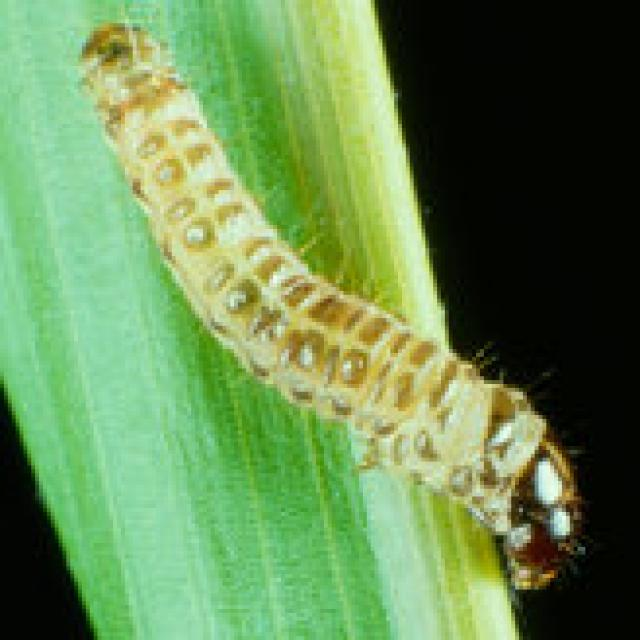cornborer-Larva-: (59, 15, 599, 597)
